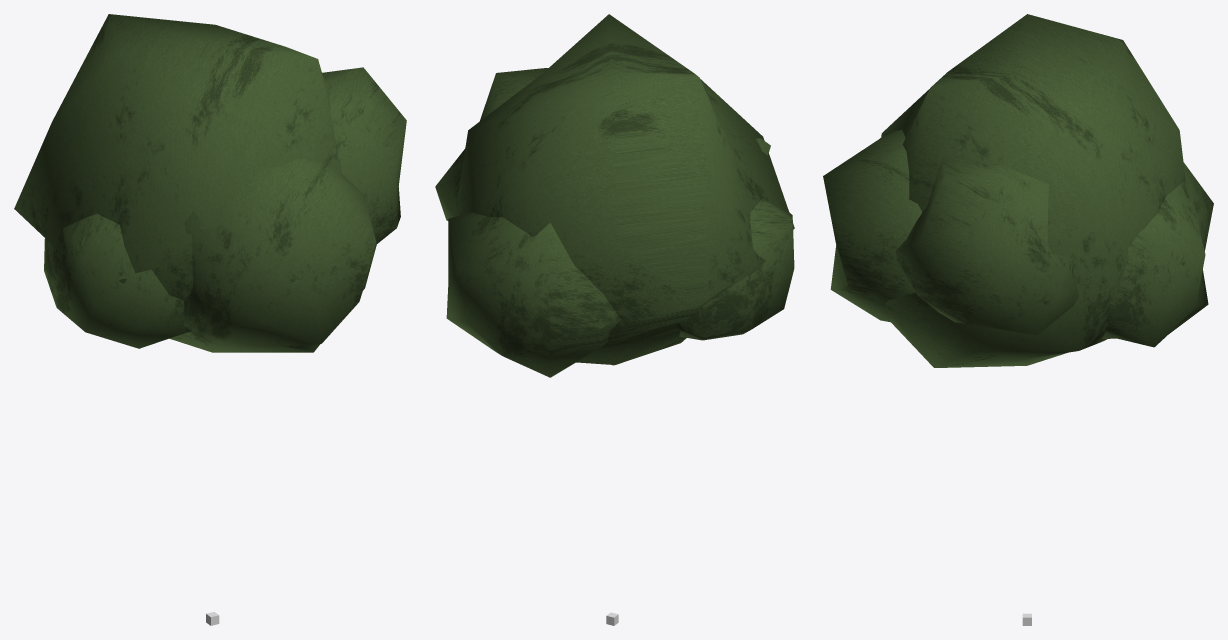
The model's file is bush_hazel.glb.
3 views of the same model, side by side, from view 1: azimuth 30°, elevation 25°; view 2: azimuth 150°, elevation 25°; view 3: azimuth 270°, elevation 25° (orthographic). The views are drawn at different scales.
Visible parts, largest first — view 1: bush_hazel; view 2: bush_hazel; view 3: bush_hazel.
Part boxes in pixels (x1,y1,x2,y2): bush_hazel: [14, 14, 406, 352]; bush_hazel: [435, 14, 794, 377]; bush_hazel: [823, 14, 1213, 367].
Size of what is drawn, in the model's own units: 1.59 by 2.73 by 1.7.
1 material, 1 textured.
